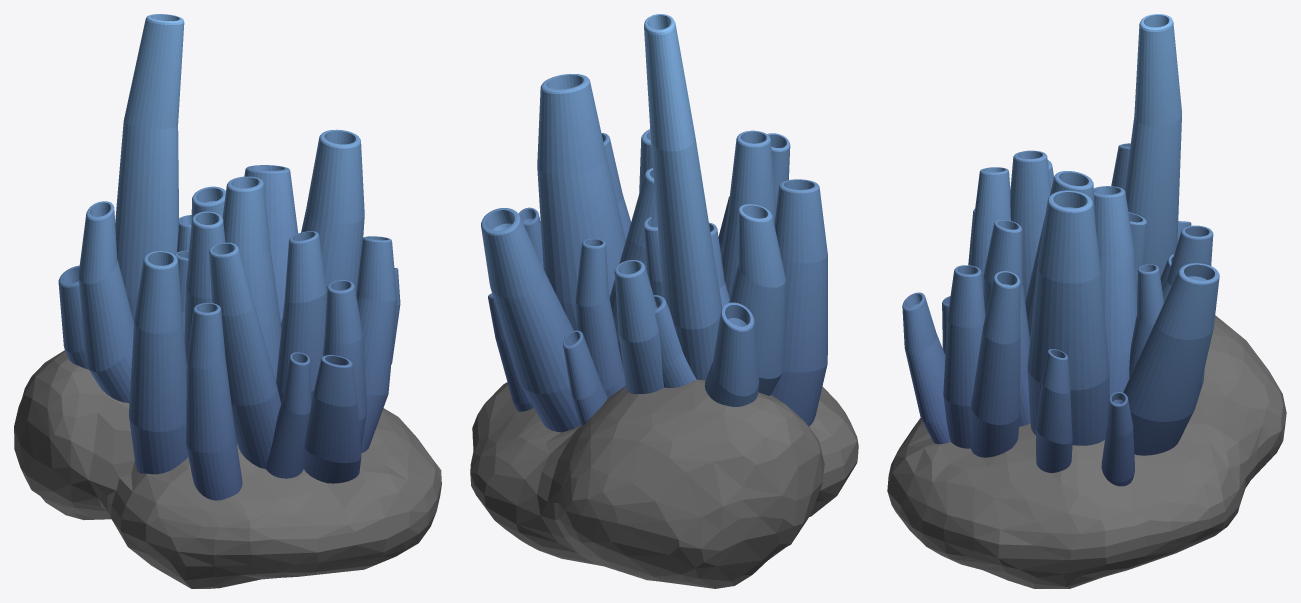
The model's file is Object_Coral_08.fbx.
The picture shows the model from 3 angles, left to right: view 1: azimuth 30°, elevation 25°; view 2: azimuth 150°, elevation 25°; view 3: azimuth 270°, elevation 25°; orthographic projection. The views are drawn at different scales.
Visible parts, largest first — view 1: CylinderCoralBranch.026, CoralBase.001; view 2: CylinderCoralBranch.026, CoralBase.001; view 3: CylinderCoralBranch.026, CoralBase.001.
Part boxes in pixels (x1,y1,x2,y2): CylinderCoralBranch.026: (58,14,400,500); CoralBase.001: (14,350,441,588); CylinderCoralBranch.026: (481,14,827,432); CoralBase.001: (470,379,858,588); CylinderCoralBranch.026: (902,14,1219,486); CoralBase.001: (887,315,1286,588).
Size of the model in its own units: 263 by 381 by 275.
